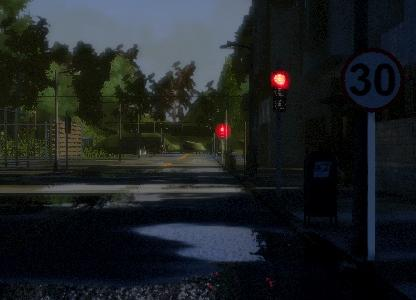Speed_30: (338, 44, 405, 119)
